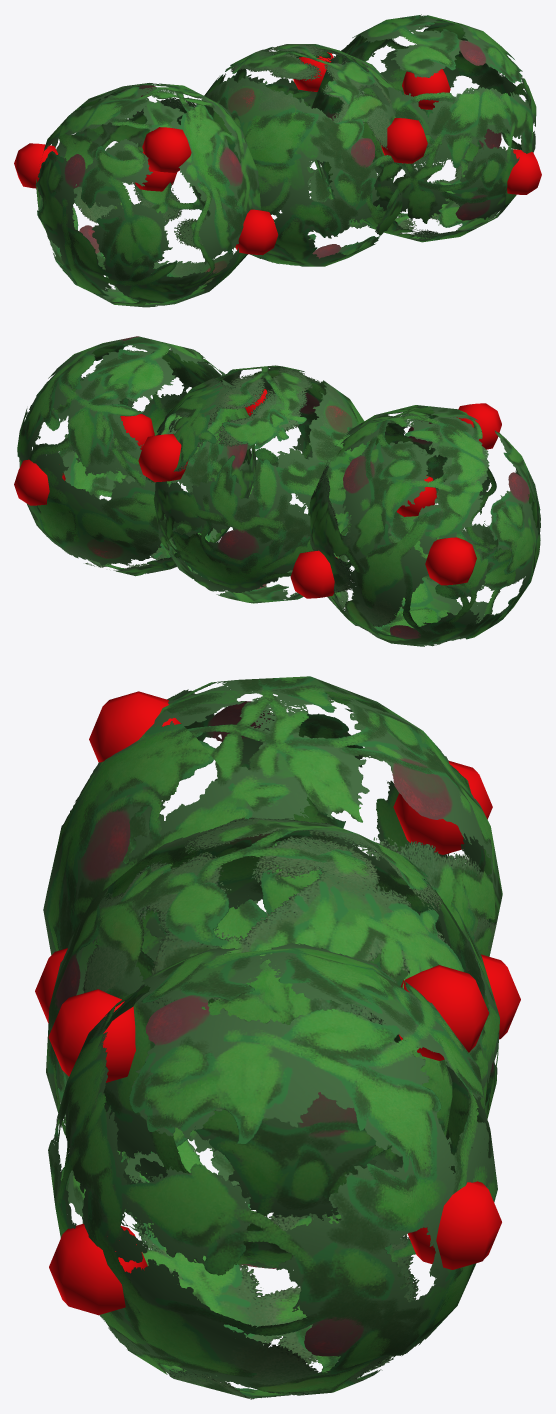
Rendered from tomato_plant.glb.
3 renders of one model, top to bottom at view 1: azimuth 30°, elevation 25°; view 2: azimuth 150°, elevation 25°; view 3: azimuth 270°, elevation 25°, orthographic. The views are drawn at different scales.
Visible parts, largest first — view 1: TomatoLeaves.002, TomatoLeaves.001, TomatoLeaves, Tomato.004, Tomato.006, Tomato.007, Tomato.005, Tomato.003, Tomato, Tomato.001, Tomato.002; view 2: TomatoLeaves.002, TomatoLeaves.001, TomatoLeaves, Tomato.003, Tomato.001, Tomato.002, Tomato, Tomato.004, Tomato.005, Tomato.007; view 3: TomatoLeaves, TomatoLeaves.001, TomatoLeaves.002, Tomato, Tomato.006, Tomato.005, Tomato.001, Tomato.004, Tomato.003, Tomato.002, Tomato.007.
Boxes of the visible parts, <box> form: TomatoLeaves.002: <box>35,83,261,307</box>; TomatoLeaves.001: <box>191,44,414,266</box>; TomatoLeaves: <box>311,14,536,242</box>; Tomato.004: <box>142,127,191,172</box>; Tomato.006: <box>380,118,427,163</box>; Tomato.007: <box>235,209,278,255</box>; Tomato.005: <box>507,149,541,194</box>; Tomato.003: <box>14,143,57,188</box>; Tomato: <box>402,69,450,109</box>; Tomato.001: <box>293,52,333,91</box>; Tomato.002: <box>135,152,177,191</box>; TomatoLeaves.002: <box>308,405,540,646</box>; TomatoLeaves.001: <box>146,365,370,603</box>; TomatoLeaves: <box>17,336,256,576</box>; Tomato.003: <box>425,537,476,585</box>; Tomato.001: <box>138,434,188,482</box>; Tomato.002: <box>290,550,337,598</box>; Tomato: <box>14,459,65,505</box>; Tomato.004: <box>456,403,501,449</box>; Tomato.005: <box>120,411,154,449</box>; Tomato.007: <box>396,475,436,516</box>; TomatoLeaves: <box>48,943,497,1399</box>; TomatoLeaves.001: <box>46,817,499,1268</box>; TomatoLeaves.002: <box>43,676,502,986</box>; Tomato: <box>408,1181,501,1269</box>; Tomato.006: <box>48,989,135,1082</box>; Tomato.005: <box>49,1223,147,1315</box>; Tomato.001: <box>399,965,488,1060</box>; Tomato.004: <box>89,691,180,762</box>; Tomato.003: <box>393,761,492,854</box>; Tomato.002: <box>481,954,520,1039</box>; Tomato.007: <box>35,948,67,1023</box>.
Size of the model in its own units: 2.98 by 1.26 by 1.33.
2 materials, 1 textured.
